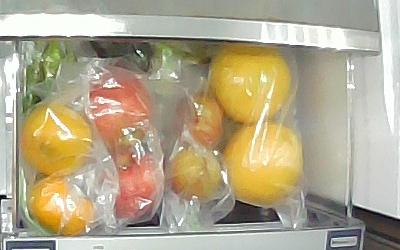apple_vinyl: (89, 66, 152, 147), (106, 148, 160, 220)
grapefruit_vinyl: (224, 121, 304, 205), (210, 42, 292, 122)
persimmon_vinyl: (22, 104, 93, 178), (26, 177, 96, 237)
prune_vinyl: (170, 148, 224, 202), (174, 92, 225, 149)
